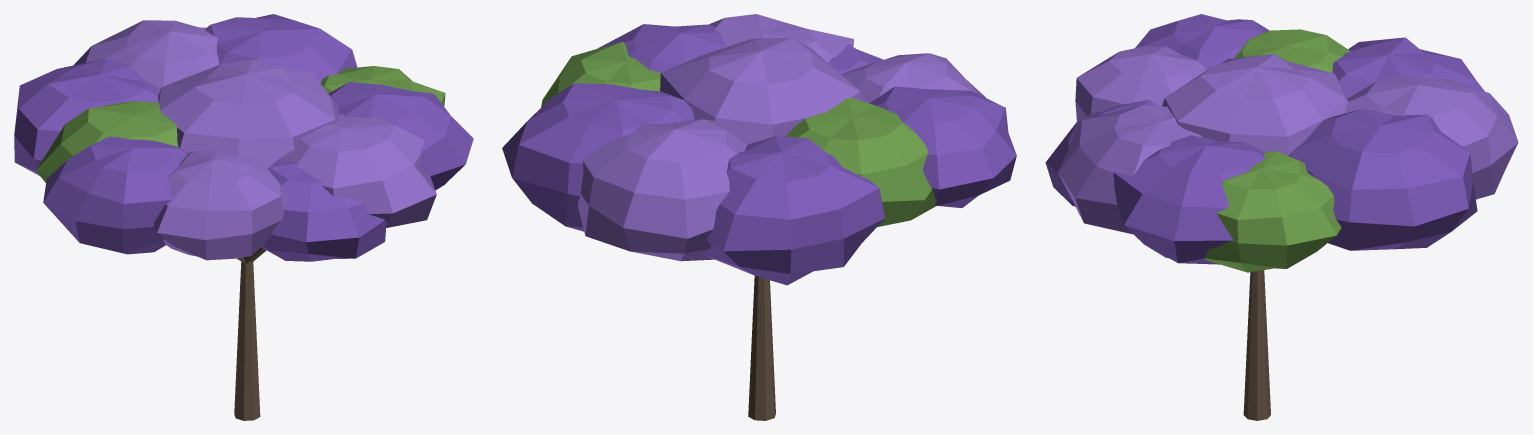
File: tree_jacaranda_large.glb
3 views of the same model, side by side, from view 1: azimuth 30°, elevation 25°; view 2: azimuth 150°, elevation 25°; view 3: azimuth 270°, elevation 25° (orthographic). The views are drawn at different scales.
Visible parts, largest first — view 1: tree_jacaranda_large; view 2: tree_jacaranda_large; view 3: tree_jacaranda_large.
Boxes of the visible parts, <box> form: tree_jacaranda_large: <box>14,14,473,420</box>; tree_jacaranda_large: <box>502,14,1016,420</box>; tree_jacaranda_large: <box>1045,14,1518,420</box>.
Bounding box in the file's own units: 21.66 × 17.6 × 21.67.
